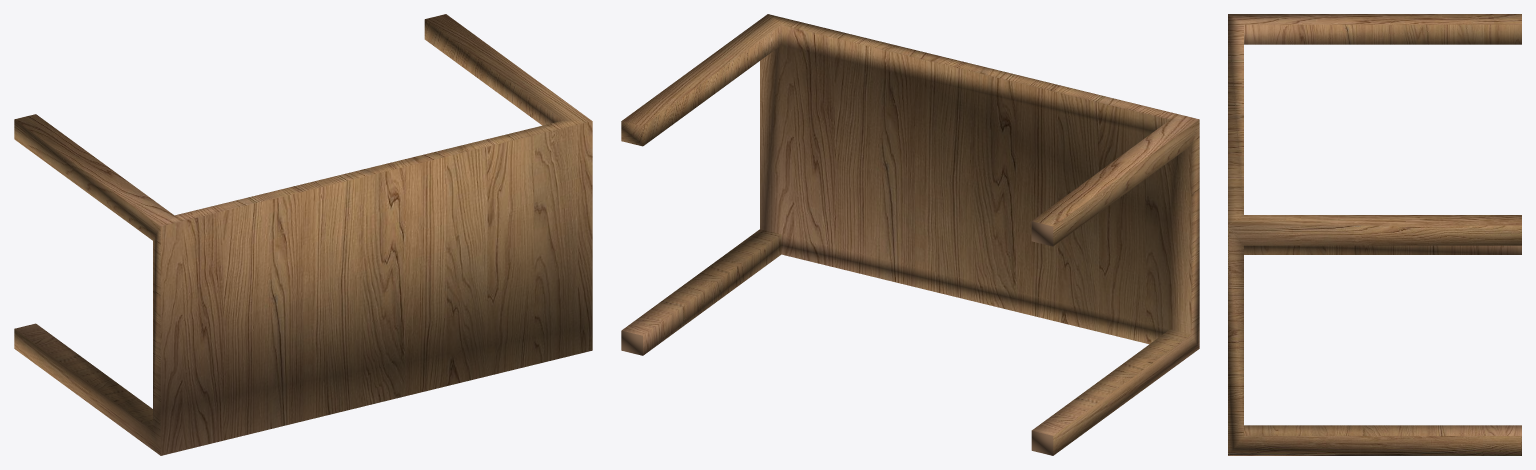
Rendered from table.obj.
3 renders of one model, left to right at view 1: azimuth 30°, elevation 25°; view 2: azimuth 150°, elevation 25°; view 3: azimuth 270°, elevation 25°, orthographic.
Visible parts, largest first — view 1: table; view 2: table; view 3: table.
Boxes of the visible parts, left/top/right/bottom form: table: left=14, top=14, right=592, bottom=455; table: left=621, top=14, right=1199, bottom=455; table: left=1228, top=14, right=1521, bottom=455.
Size of the model in its own units: 1.26 by 0.64 by 0.74.
